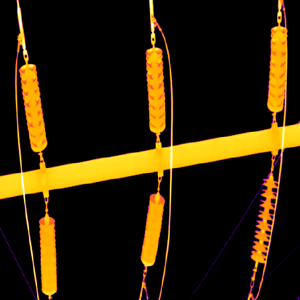insulator: (248, 171, 279, 264), (17, 61, 48, 153), (264, 24, 288, 113), (138, 190, 165, 266), (144, 46, 165, 133), (37, 211, 58, 295)
